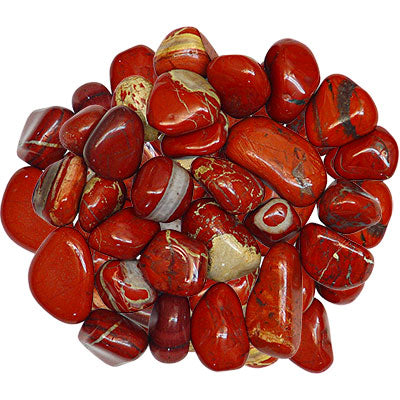Red_Jasper: (34, 108, 328, 333), (115, 29, 320, 105)
